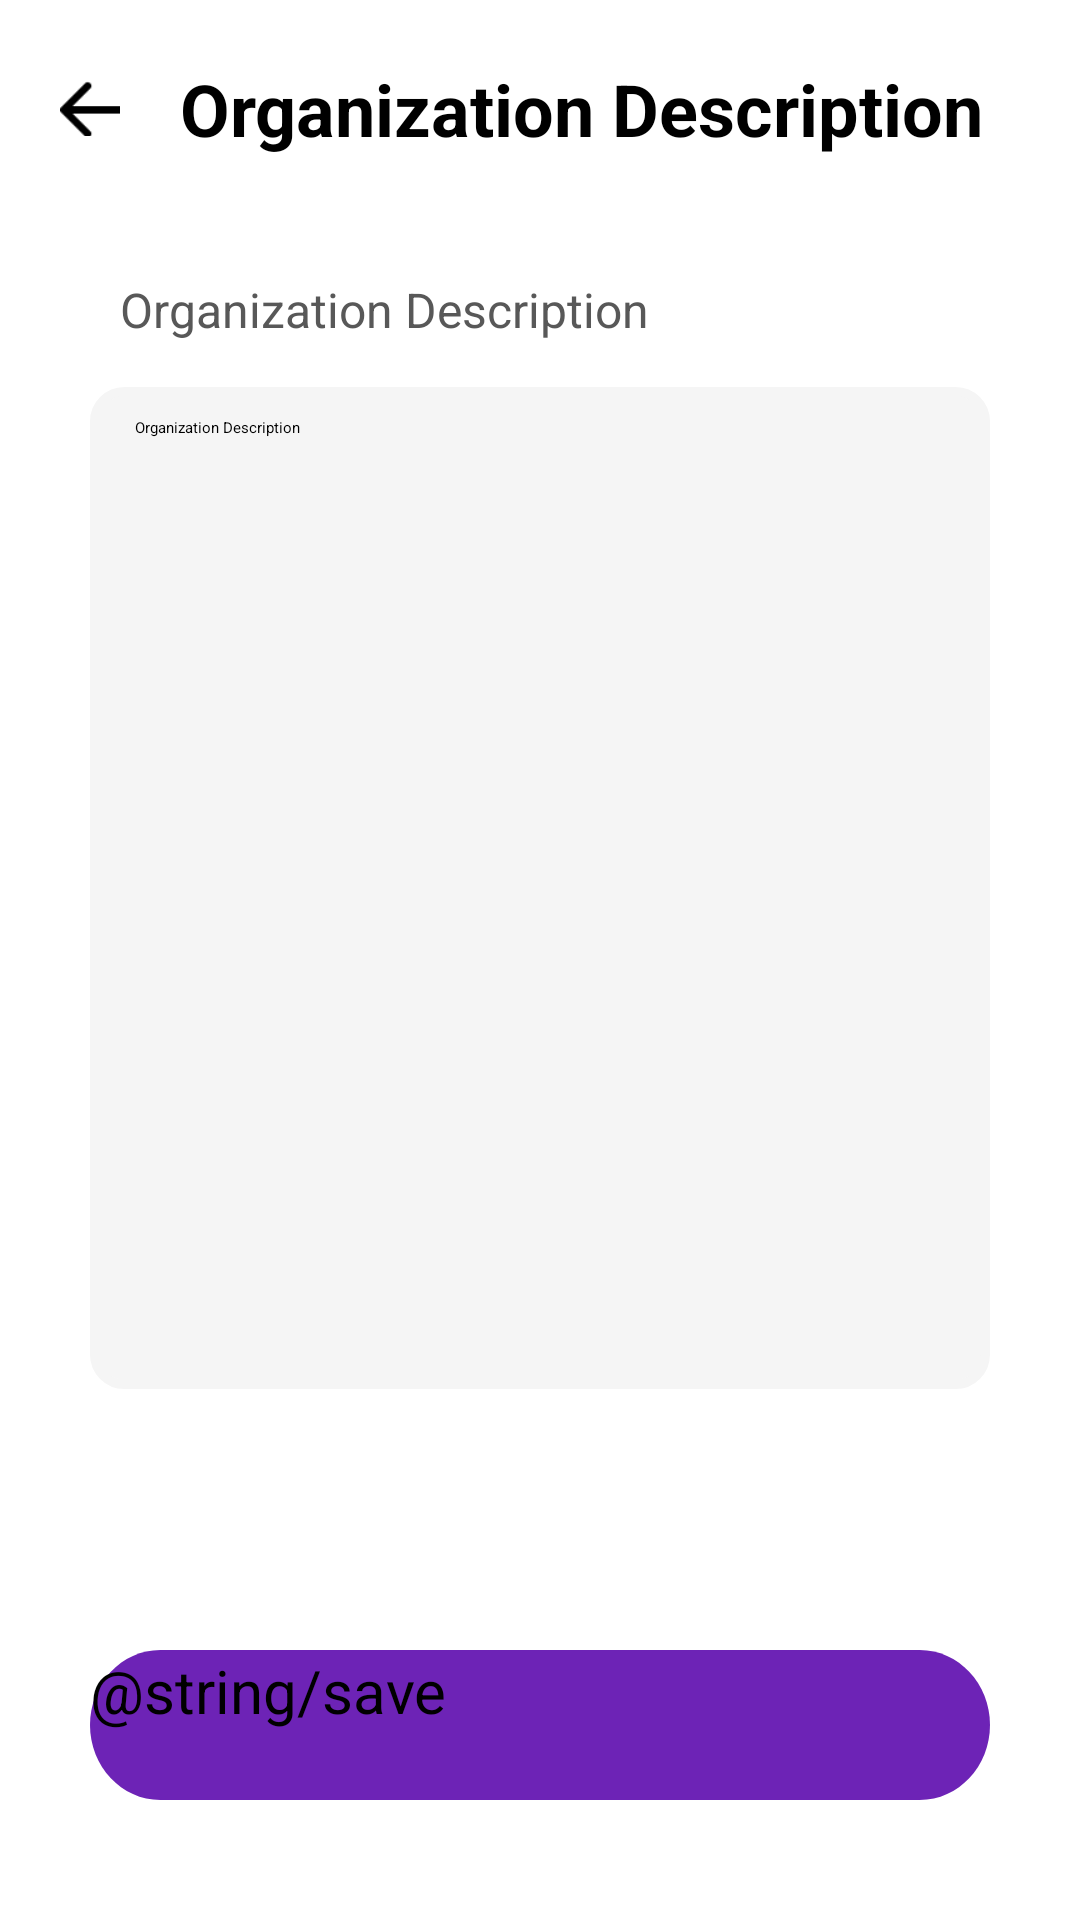

Locate icon controls on the screen. Image size 1080w x 1920h, boxes as (x1, y1, x2, y2).
back arrow: (60, 82, 120, 136)
